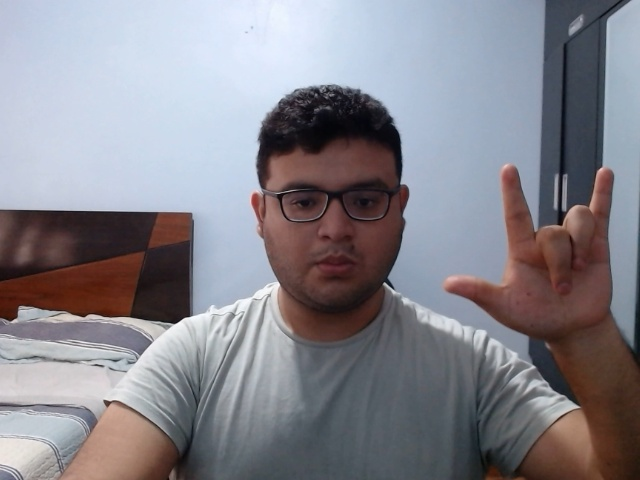I love you: (436, 158, 629, 360)
